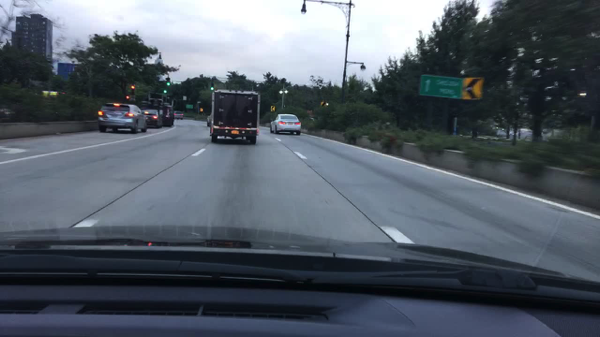car: (97, 102, 148, 136), (268, 112, 303, 136), (138, 108, 162, 131), (160, 107, 178, 127), (170, 110, 185, 122), (204, 113, 212, 128)
traffic light: (209, 82, 216, 93), (166, 76, 172, 88), (129, 86, 136, 95), (161, 88, 169, 95), (125, 94, 131, 102)
traffic sign: (417, 73, 484, 102), (128, 94, 138, 103), (319, 101, 329, 107), (186, 103, 194, 110), (270, 105, 277, 113), (181, 95, 188, 102), (198, 107, 204, 114)
